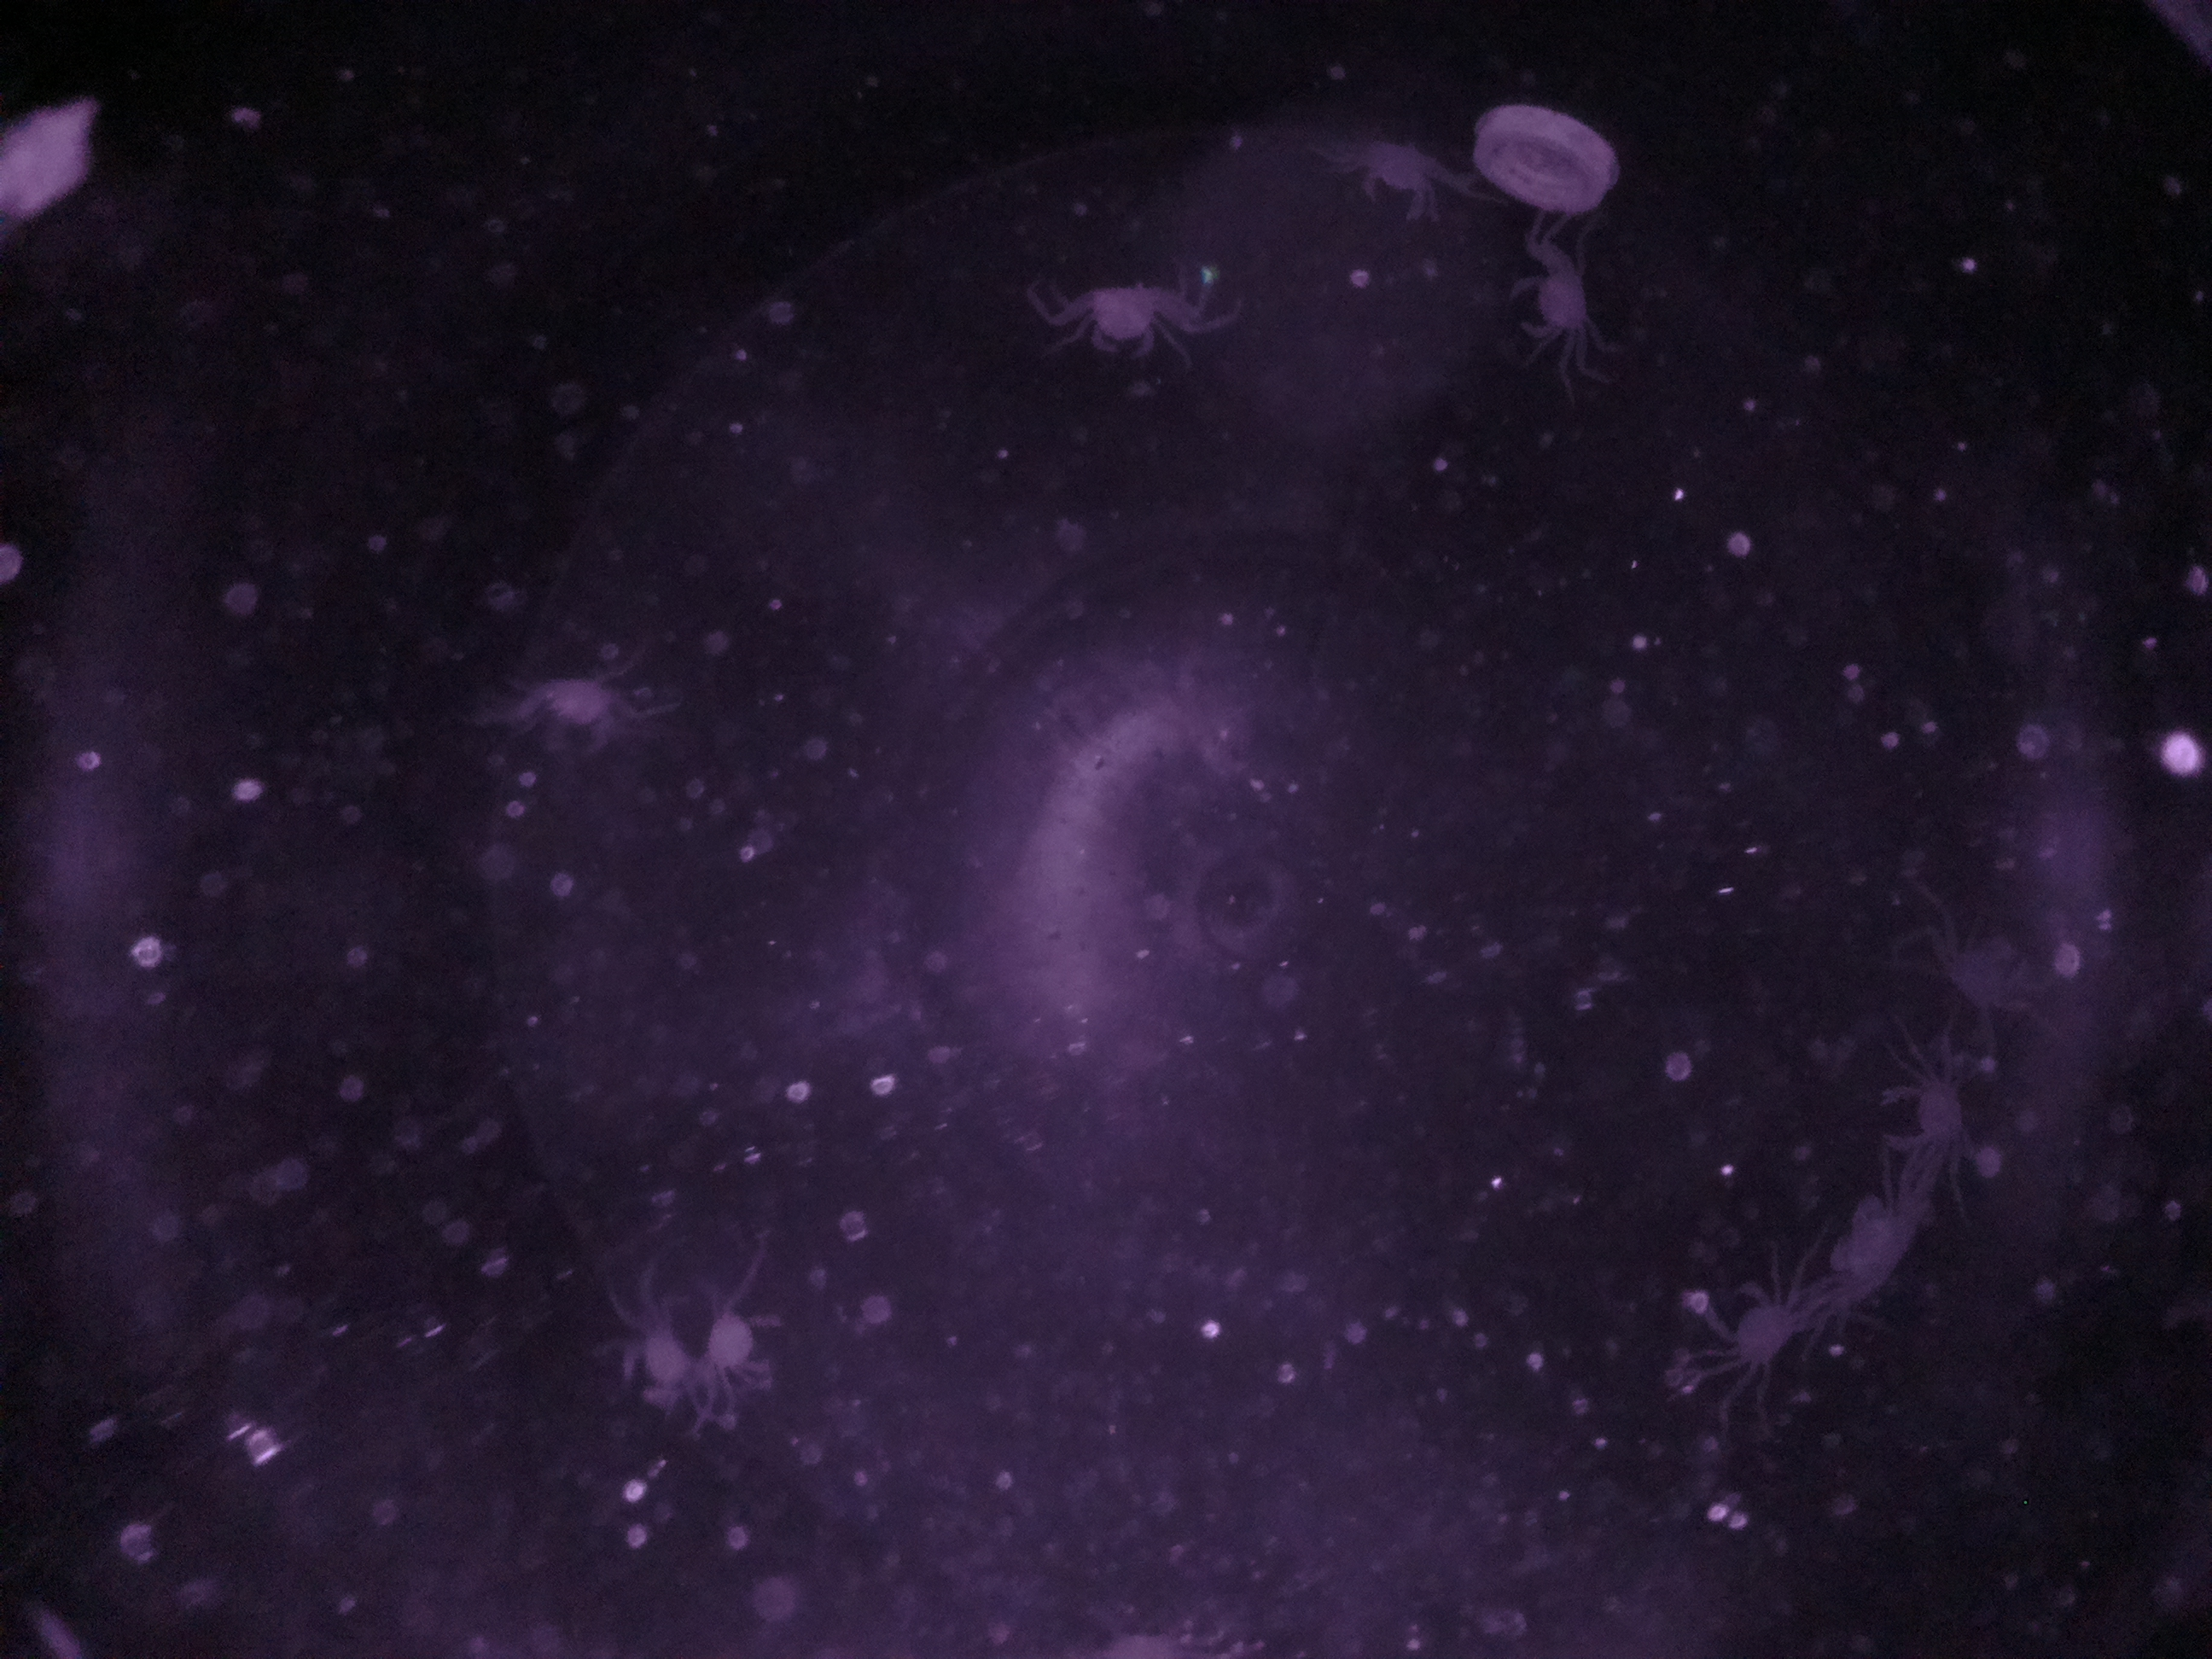Crab: (1686, 1276, 1813, 1384), (1348, 110, 1449, 240), (676, 1288, 799, 1394), (1068, 265, 1176, 376), (1860, 1070, 1972, 1175), (529, 659, 632, 770), (1503, 260, 1618, 350)
